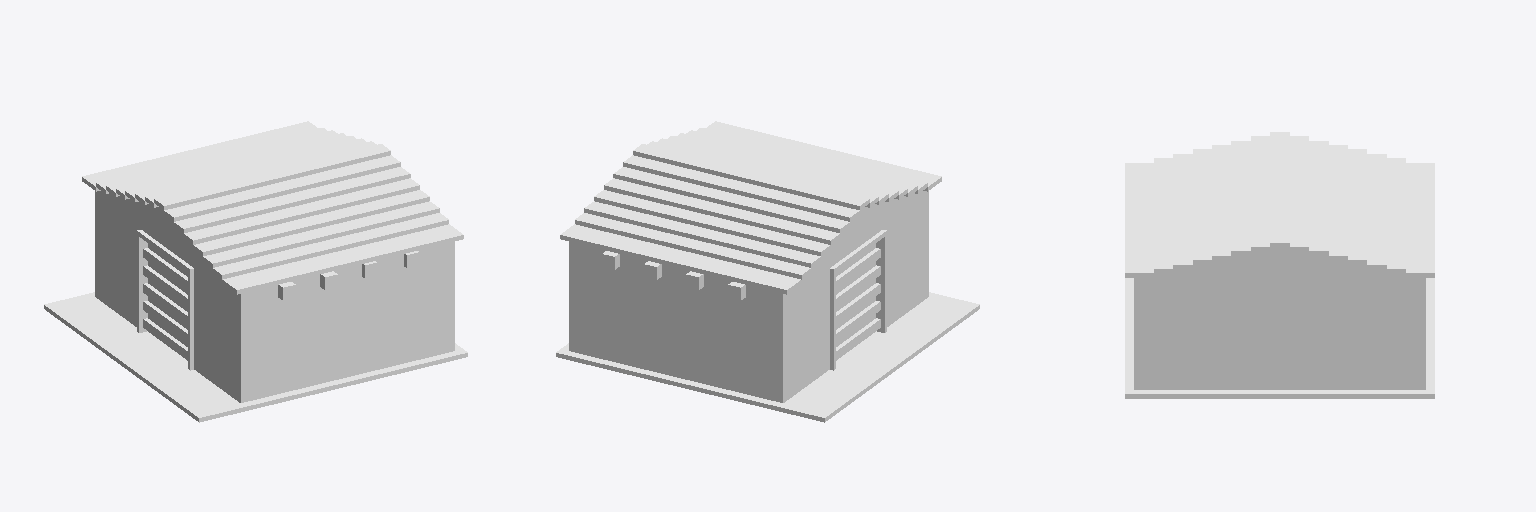
File: industrial-3.obj
3 renders of one model, left to right at view 1: azimuth 30°, elevation 25°; view 2: azimuth 150°, elevation 25°; view 3: azimuth 270°, elevation 25°, orthographic.
Visible parts, largest first — view 1: object 1; view 2: object 1; view 3: object 1.
Boxes of the visible parts, box(x1,y1,x2,y2) form: object 1: box(44, 121, 467, 422); object 1: box(556, 121, 979, 422); object 1: box(1125, 132, 1434, 398).
Bounding box in the file's own units: 6.4 × 3.5 × 6.4.